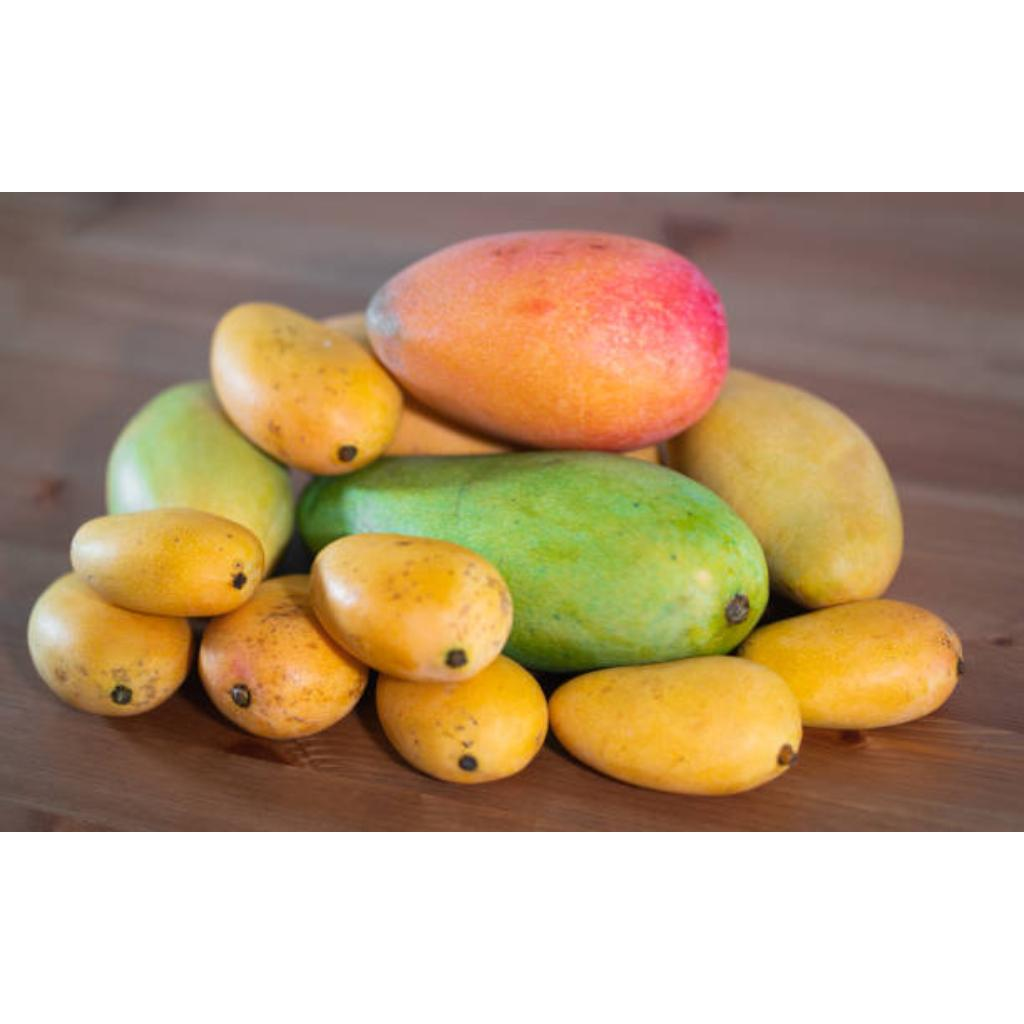mango: (298, 452, 768, 673), (366, 232, 724, 451), (108, 382, 294, 573), (210, 302, 402, 475), (310, 534, 514, 683), (30, 574, 192, 717), (72, 510, 264, 617)
